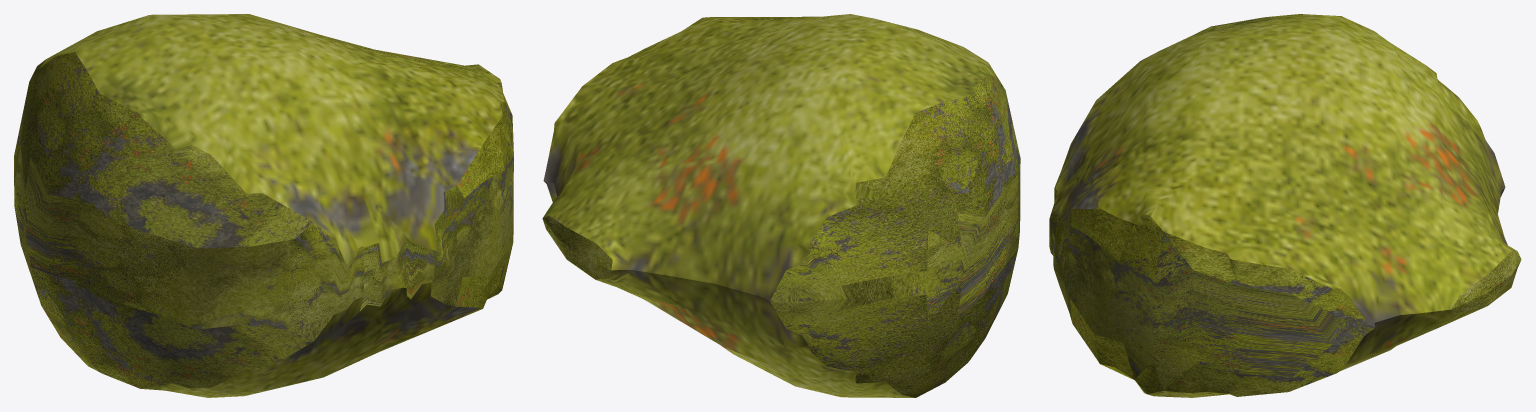
File: SM_MossClump_04.fbx
3 renders of one model, left to right at view 1: azimuth 30°, elevation 25°; view 2: azimuth 150°, elevation 25°; view 3: azimuth 270°, elevation 25°, orthographic. The views are drawn at different scales.
Visible parts, largest first — view 1: SM_MossClump_04; view 2: SM_MossClump_04; view 3: SM_MossClump_04.
Part boxes in pixels (x1,y1,x2,y2): SM_MossClump_04: (14, 14, 513, 397); SM_MossClump_04: (542, 14, 1020, 397); SM_MossClump_04: (1049, 14, 1521, 397).
Bounding box in the file's own units: 9.65 × 9.67 × 7.38.
